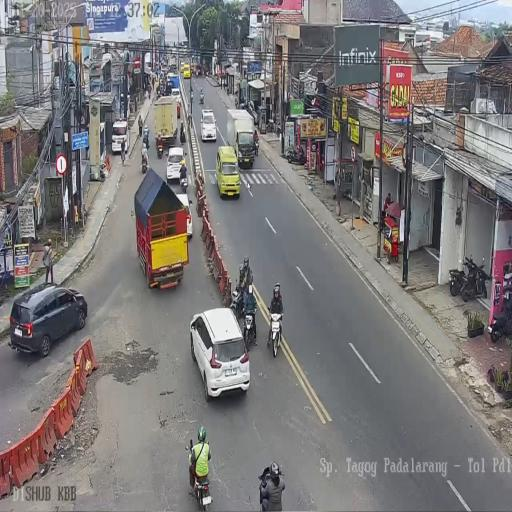car: (189, 306, 252, 401), (8, 284, 87, 356), (216, 146, 241, 199), (166, 146, 185, 182), (111, 119, 130, 154), (200, 109, 217, 142), (170, 88, 180, 104), (164, 78, 173, 95), (183, 64, 190, 78), (196, 66, 202, 77)
motorcycle: (187, 440, 213, 510), (488, 296, 512, 342), (449, 254, 473, 296), (267, 309, 284, 359), (472, 255, 490, 297), (242, 306, 257, 351), (285, 143, 306, 165), (141, 154, 148, 174), (254, 134, 260, 156), (180, 121, 185, 143), (276, 120, 282, 138), (199, 92, 204, 104), (190, 88, 194, 102), (204, 68, 209, 77)
truck: (135, 167, 191, 287), (226, 108, 255, 164), (154, 95, 179, 152), (144, 52, 151, 73), (169, 56, 177, 72), (161, 58, 168, 71)
